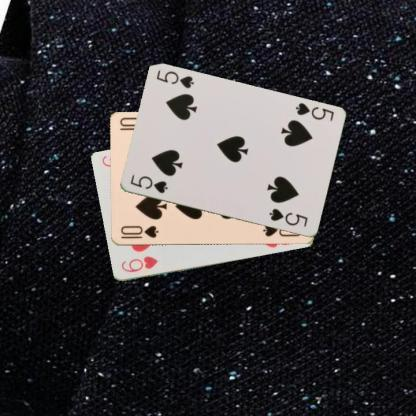10s: (118, 223, 159, 240)
5s: (292, 100, 335, 122), (127, 172, 169, 194)
6h: (118, 254, 159, 274)
